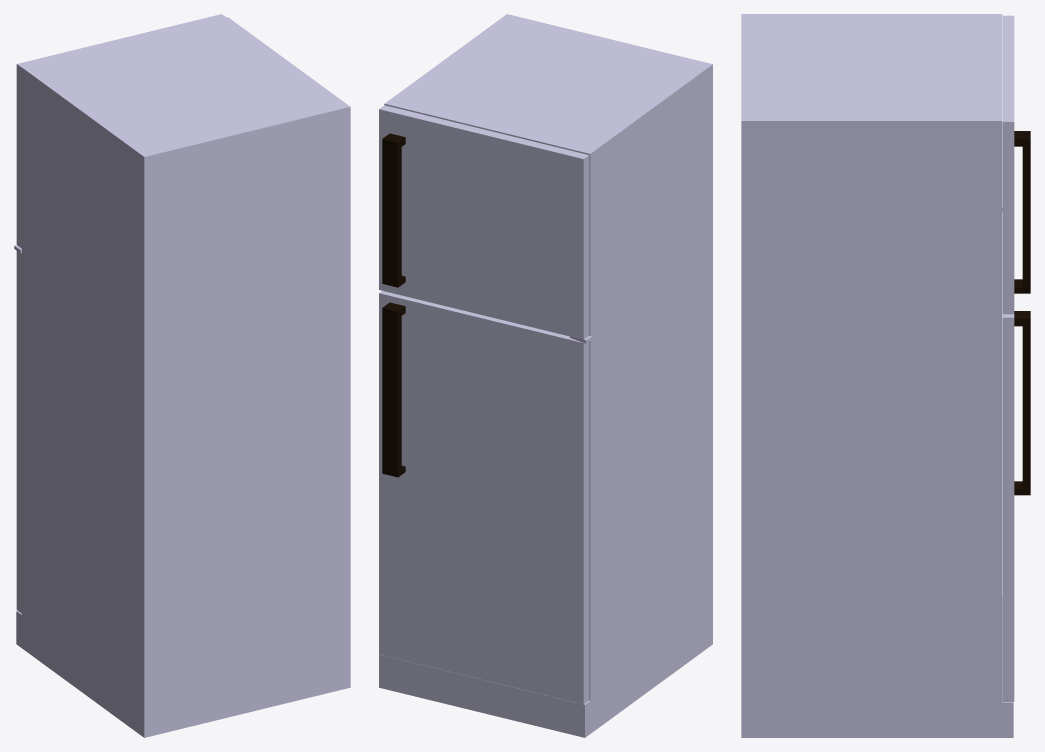
The model's file is Refrigerator.FBX.
3 views of the same model, side by side, from view 1: azimuth 30°, elevation 25°; view 2: azimuth 150°, elevation 25°; view 3: azimuth 270°, elevation 25° (orthographic). The views are drawn at different scales.
Parts seen in each view (by area): view 1: Box001, Box002, Box003; view 2: Box001, Box002, Box003, Box006, Box008; view 3: Box001, Box002, Box003, Box006, Box008.
Part boxes in pixels (<box>): Box001: <box>16,17,350,737</box>; Box002: <box>16,251,21,612</box>; Box003: <box>16,14,225,248</box>; Box001: <box>379,14,712,737</box>; Box002: <box>379,291,589,704</box>; Box003: <box>379,105,589,339</box>; Box006: <box>382,302,405,477</box>; Box008: <box>382,133,405,287</box>; Box001: <box>741,14,1013,737</box>; Box002: <box>1002,314,1014,701</box>; Box003: <box>1002,15,1014,314</box>; Box006: <box>1014,311,1030,495</box>; Box008: <box>1014,131,1030,293</box>.
Bounding box in the file's own units: 10.15 × 27.13 × 11.51.
